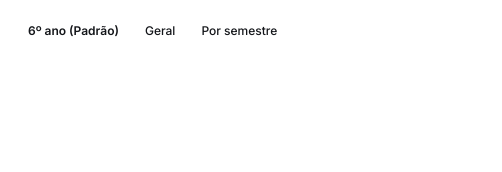
Test: FiltroSemestre — só oferece semestre que tem resultado › lista apenas os semestres informados
The image size is (502, 172).
Click the radio button labelled "Por semestre".
click(239, 31)  # box x1=188 y1=15 x2=290 y2=47
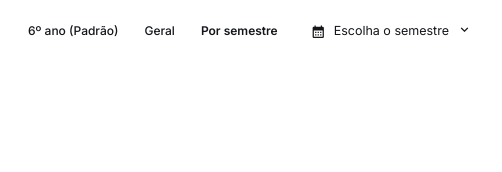
Click the dropdown named "Semestre específico".
click(391, 31)  # box x1=300 y1=15 x2=483 y2=47
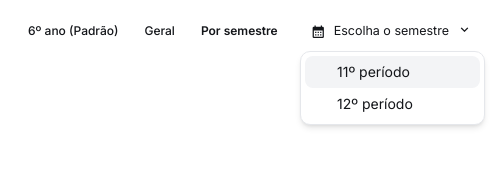
expect the option "11º período" is shown: met, box x1=305 y1=56 x2=480 y2=88
expect the option "12º período" is shown: met, box x1=337 y1=95 x2=413 y2=112
